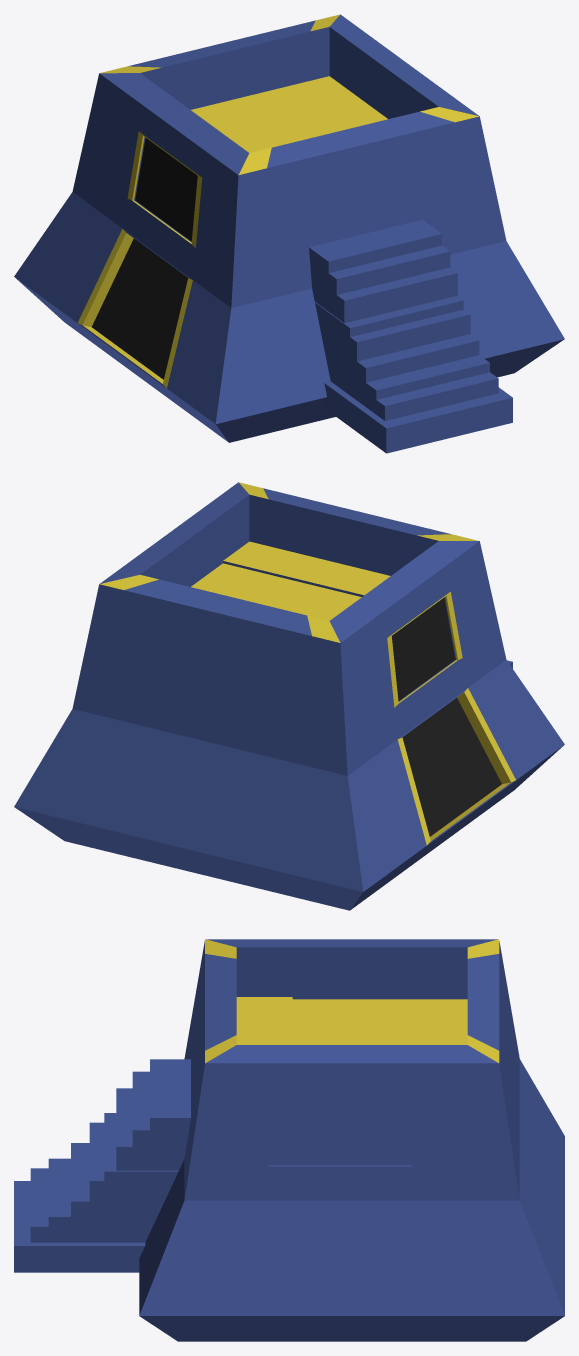
File: tab.fbx
3 views of the same model, one above another, from view 1: azimuth 30°, elevation 25°; view 2: azimuth 150°, elevation 25°; view 3: azimuth 270°, elevation 25° (orthographic). The views are drawn at different scales.
Visible parts, largest first — view 1: Cube; view 2: Cube; view 3: Cube.
Part boxes in pixels (x1,y1,x2,y2): Cube: (14, 14, 564, 453); Cube: (14, 482, 564, 910); Cube: (14, 939, 564, 1341).
Size of the model in its own units: 401 by 283 by 520.
